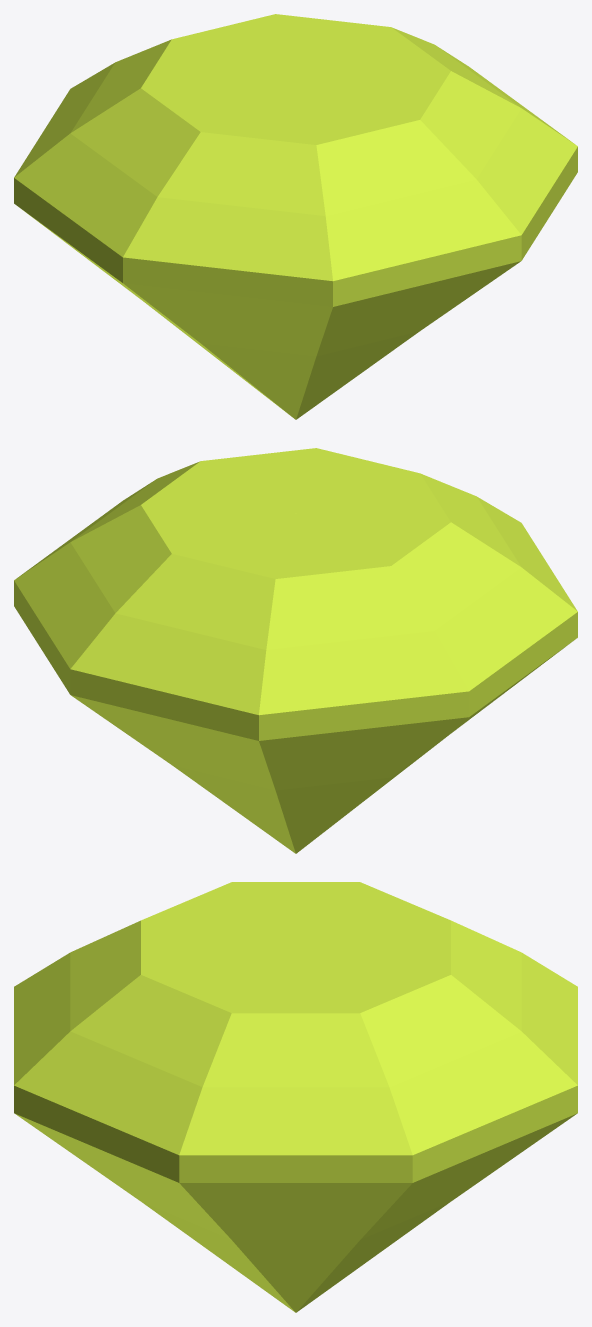
The model's file is peridot-glass.glb.
3 renders of one model, top to bottom at view 1: azimuth 30°, elevation 25°; view 2: azimuth 150°, elevation 25°; view 3: azimuth 270°, elevation 25°, orthographic. The views are drawn at different scales.
Visible parts, largest first — view 1: Peridot; view 2: Peridot; view 3: Peridot.
Boxes of the visible parts, bbox=[...] form: Peridot: bbox=[14, 14, 577, 419]; Peridot: bbox=[14, 448, 577, 853]; Peridot: bbox=[14, 882, 577, 1312].
Size of the model in its own units: 1.85 by 1.32 by 1.85.
